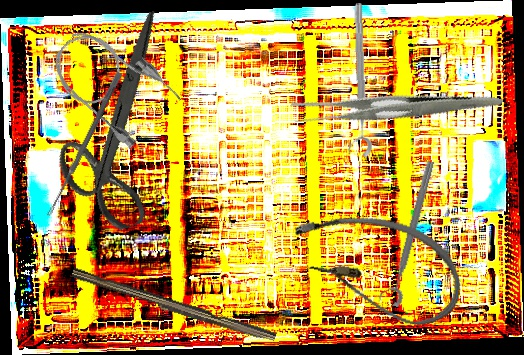Cannula: (279, 200, 473, 335), (40, 13, 186, 154)
Dressing Forceps: (286, 46, 504, 173)
Fixation Ring: (376, 157, 439, 308), (341, 3, 373, 158)
Iris Scissors: (21, 9, 219, 243)
Scalpel Handle: (69, 267, 278, 346)
Surgical Spoon: (45, 71, 123, 218)
